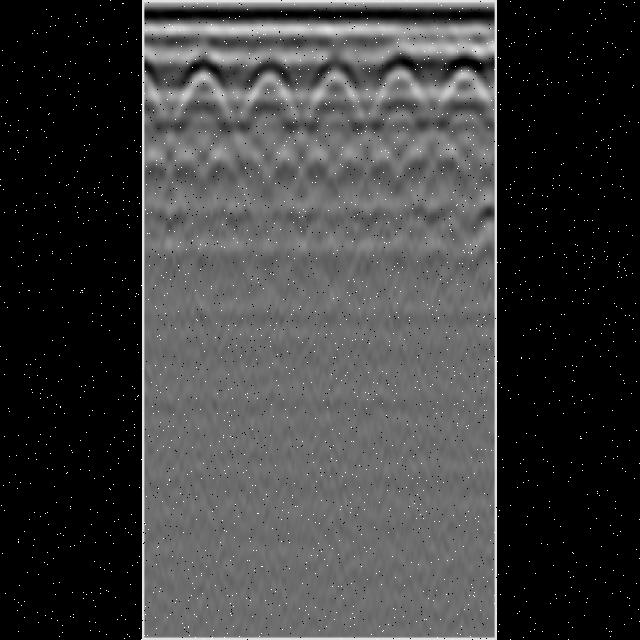hyperbola: (364, 68, 441, 128), (300, 61, 366, 128), (173, 67, 234, 131), (236, 66, 298, 124), (443, 65, 497, 122)
